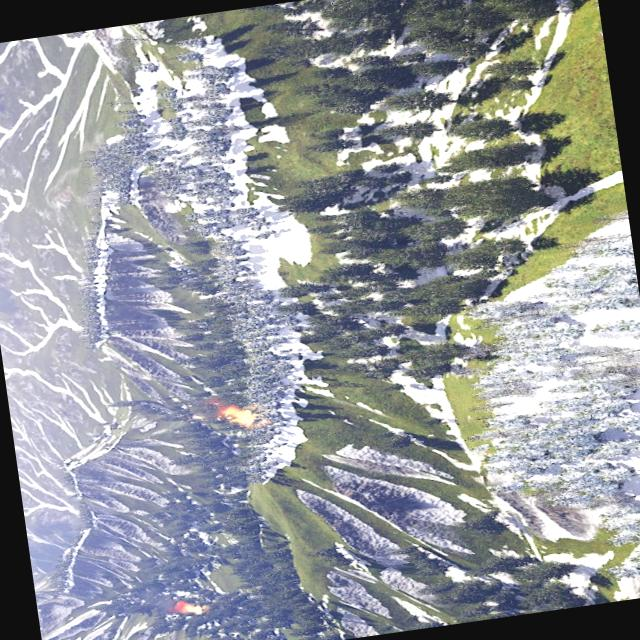fire: (220, 402, 258, 429), (175, 598, 205, 618)
smoke: (146, 586, 184, 618), (192, 394, 228, 422)
